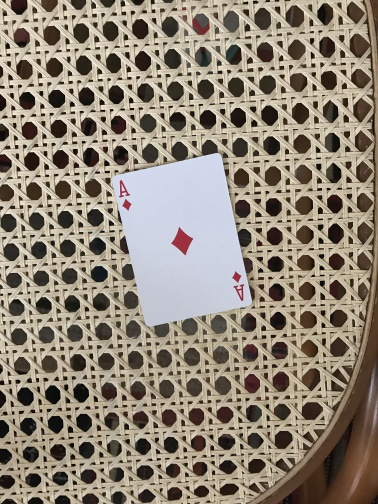ace: (110, 152, 253, 327)
